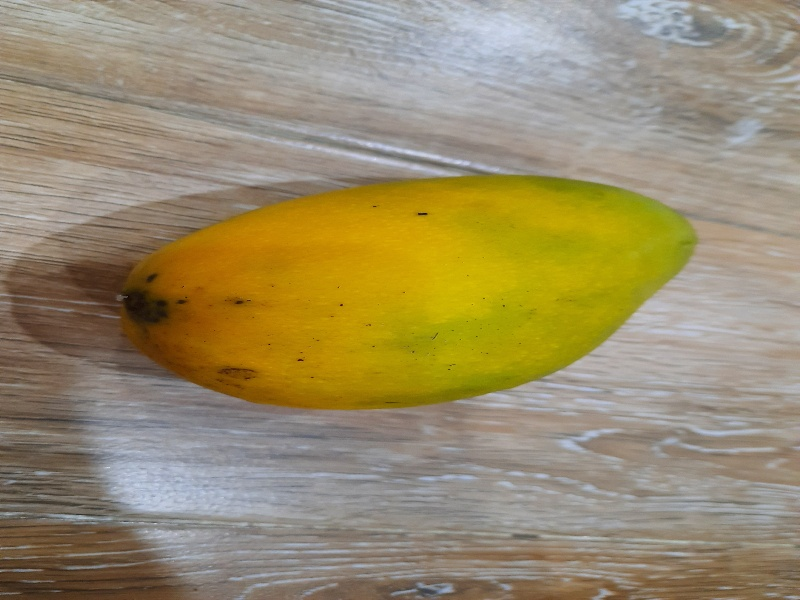fruit: (123, 174, 707, 416)
